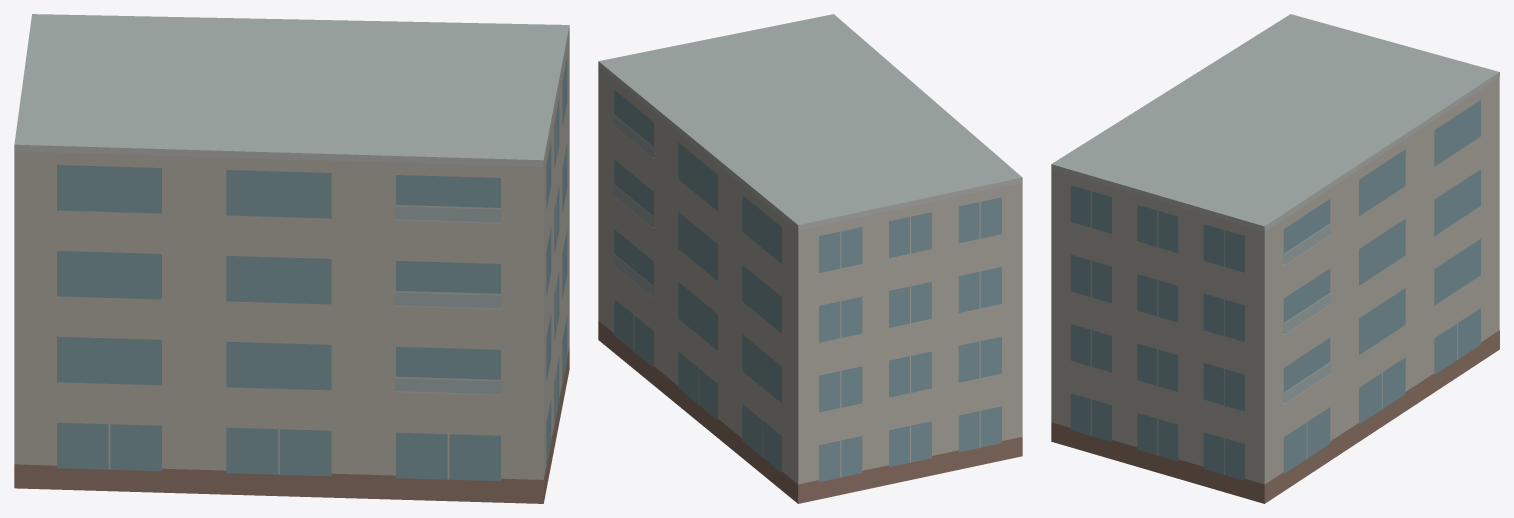
File: survey-upis-32886897.glb
3 renders of one model, left to right at view 1: azimuth 30°, elevation 25°; view 2: azimuth 150°, elevation 25°; view 3: azimuth 270°, elevation 25°, orthographic. The views are drawn at different scales.
Visible parts, largest first — view 1: survey-upis-32886897.tmp; view 2: survey-upis-32886897.tmp; view 3: survey-upis-32886897.tmp.
Boxes of the visible parts, x1=… form: survey-upis-32886897.tmp: x1=14, y1=14, x2=569, y2=503; survey-upis-32886897.tmp: x1=598, y1=14, x2=1022, y2=503; survey-upis-32886897.tmp: x1=1051, y1=14, x2=1499, y2=503.
Size of the model in its own units: 21.02 by 12.8 by 18.76.
